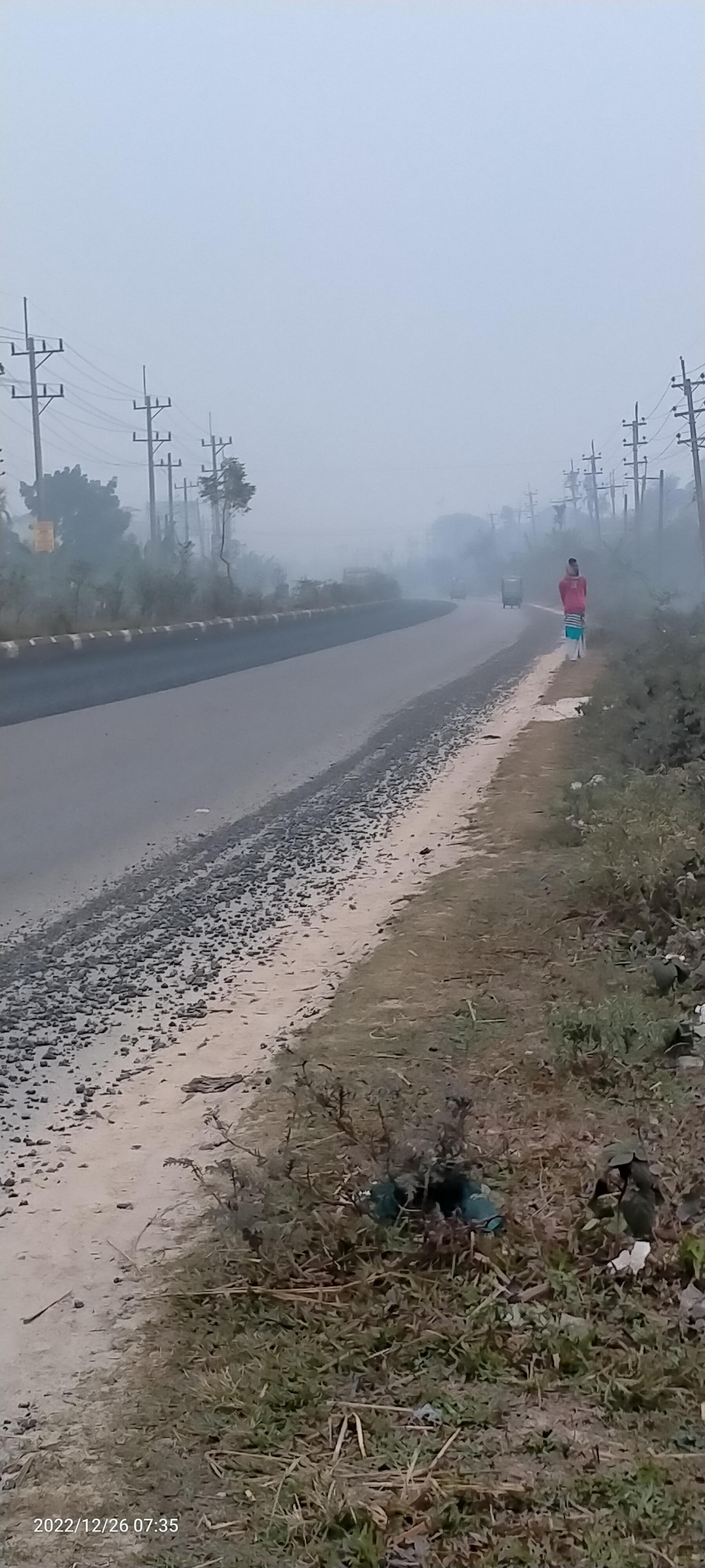Car: (496, 571, 533, 617)
